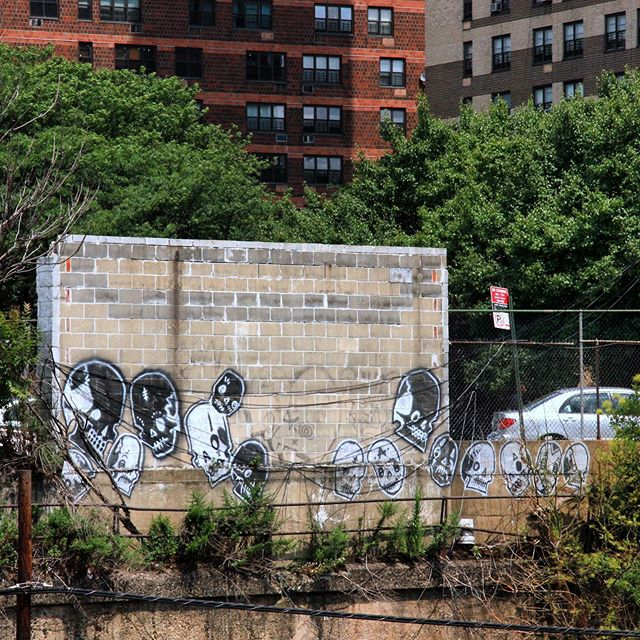building: (1, 1, 408, 194), (426, 1, 640, 172)
graffiti: (80, 373, 600, 499)
vegetation: (1, 49, 640, 290)
wall: (39, 242, 455, 531)
